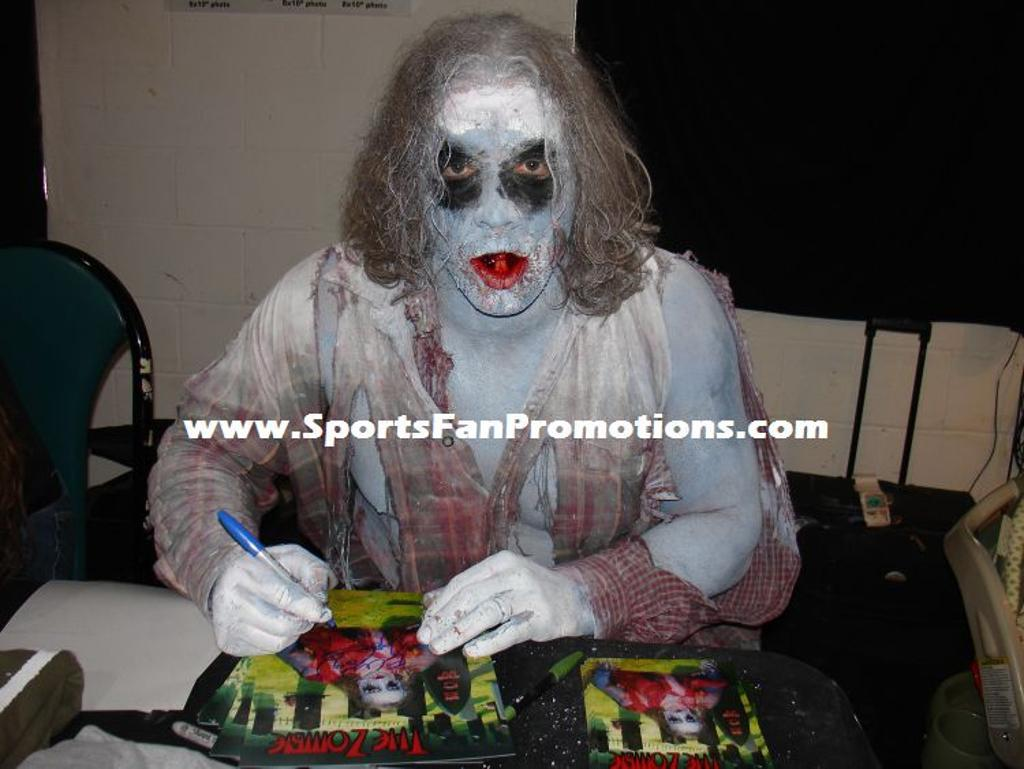face: (425, 99, 573, 305)
